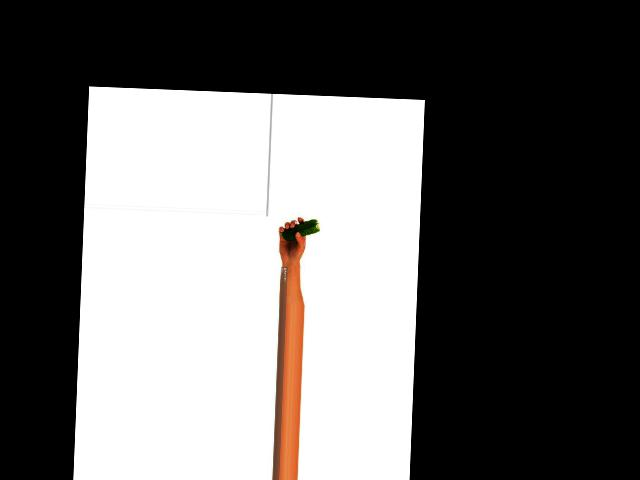cucumber: (281, 218, 319, 242)
